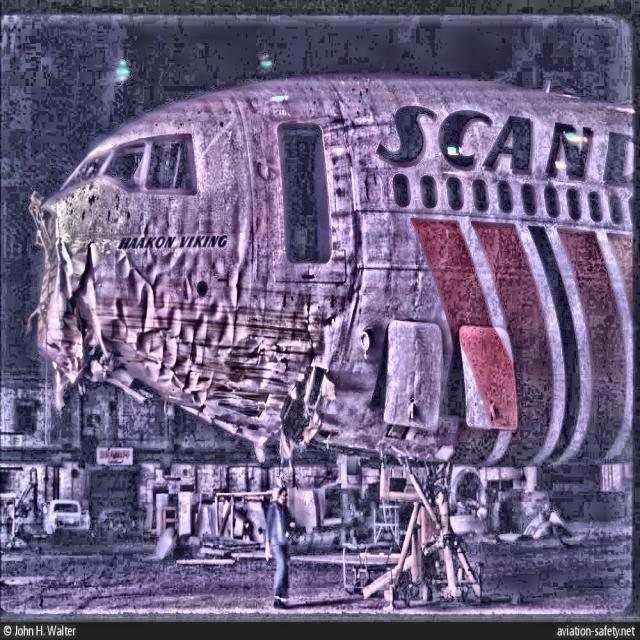crack: (62, 241, 98, 327), (298, 282, 325, 365)
